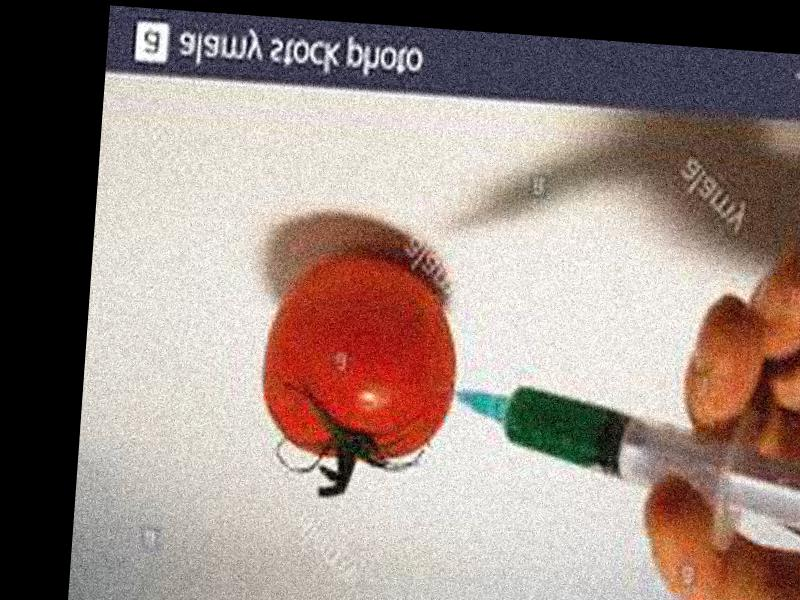Tomato: (260, 249, 463, 464)
